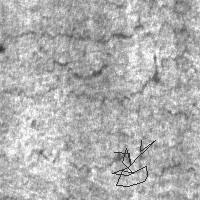crazing: (38, 18, 191, 111), (28, 121, 200, 180), (7, 2, 168, 46), (112, 140, 155, 186)
